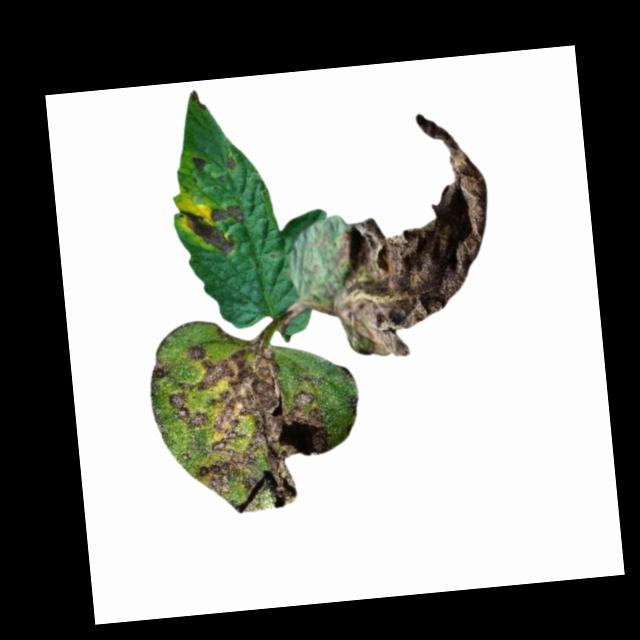Early_blight: (308, 105, 503, 362), (143, 328, 337, 523), (177, 198, 252, 259), (191, 153, 208, 170), (224, 153, 240, 170)
